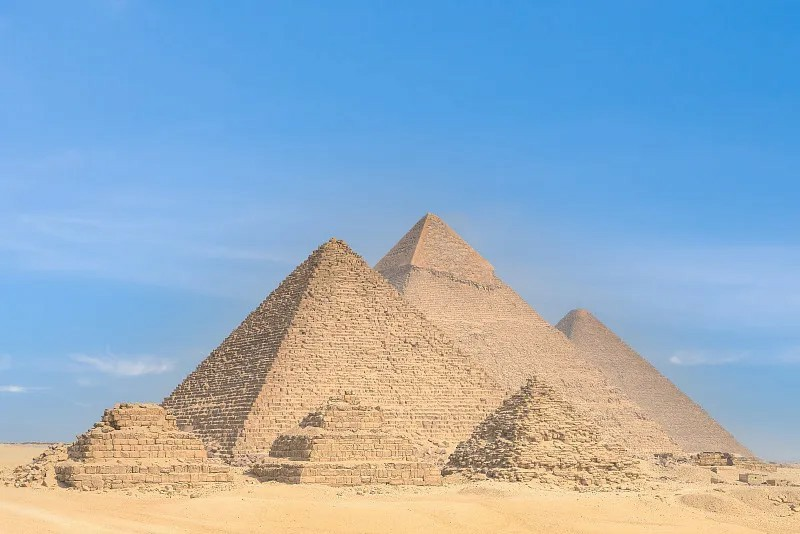Pyramid: (372, 214, 698, 468), (161, 240, 506, 479), (556, 308, 766, 465), (450, 377, 644, 483), (250, 394, 447, 488), (46, 403, 235, 493)
